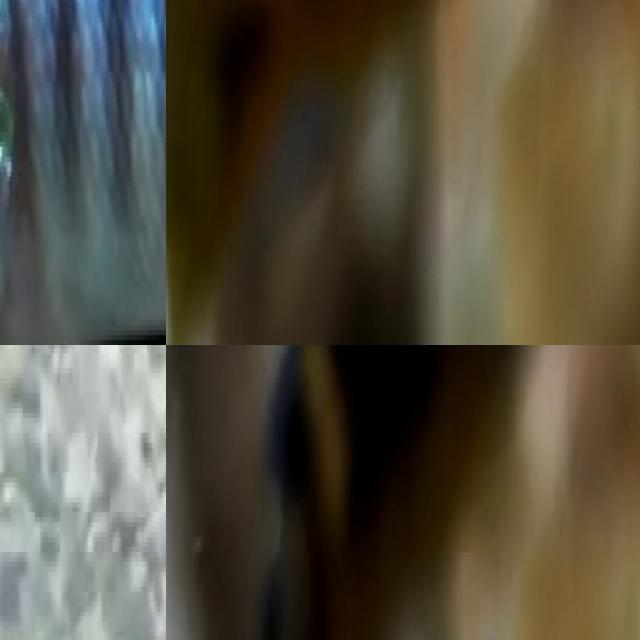fish: (240, 345, 575, 640), (0, 0, 166, 345)
